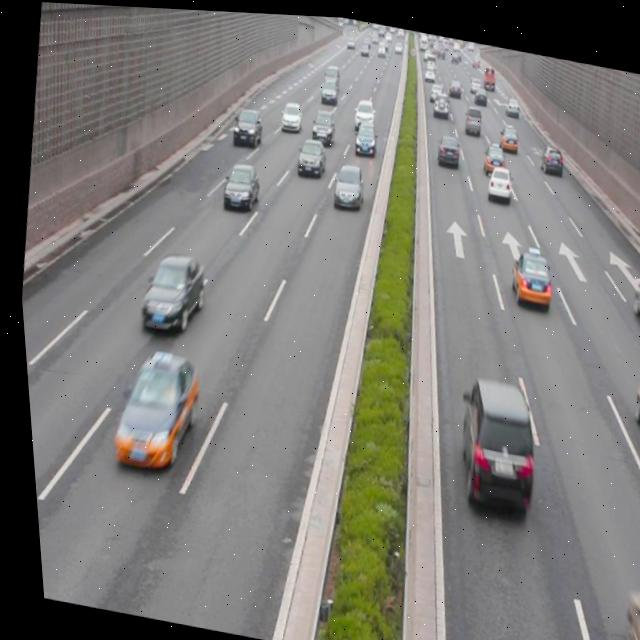car: (441, 374, 540, 518), (102, 345, 201, 476), (130, 246, 206, 343), (501, 241, 551, 307), (603, 570, 640, 640), (218, 159, 259, 208), (620, 361, 640, 447), (328, 157, 362, 204), (228, 101, 263, 146), (293, 135, 326, 176), (306, 103, 336, 143), (622, 264, 640, 327), (349, 116, 377, 153), (482, 159, 510, 195), (277, 98, 304, 134), (432, 129, 459, 163), (479, 136, 504, 168), (537, 139, 563, 169)
